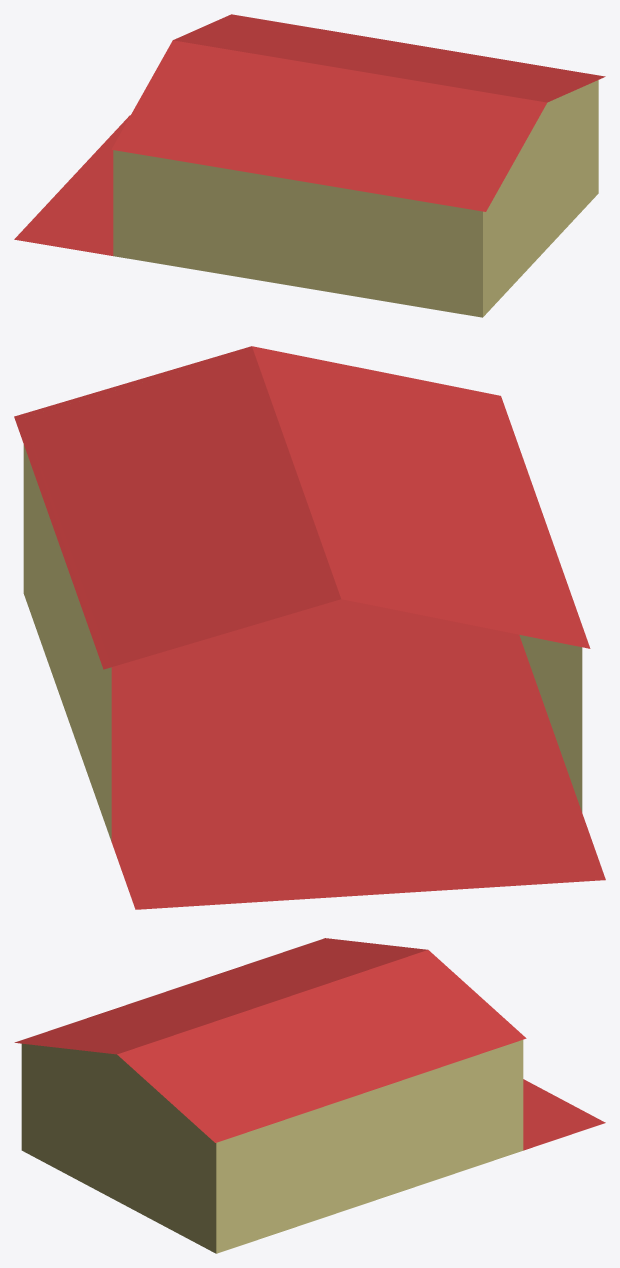
3 renders of one model, top to bottom at view 1: azimuth 30°, elevation 25°; view 2: azimuth 150°, elevation 25°; view 3: azimuth 270°, elevation 25°, orthographic. The views are drawn at different scales.
Size of the model in its own units: 25.54 by 26.89 by 7.54.
